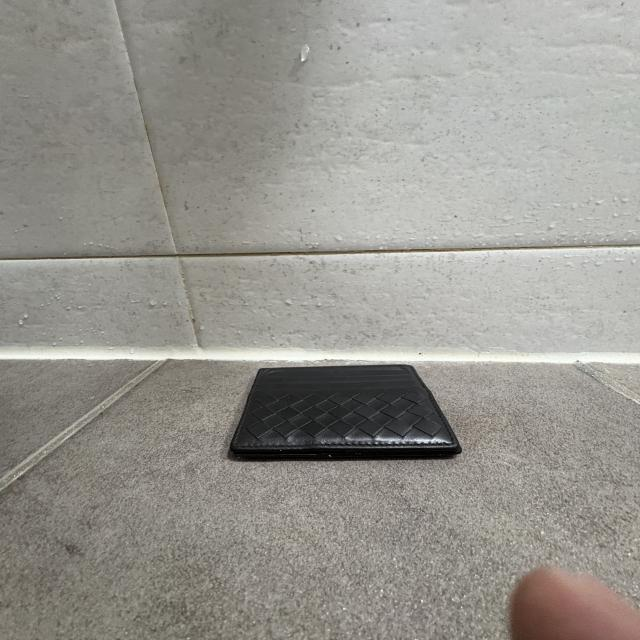wallet: (224, 365, 462, 460)
